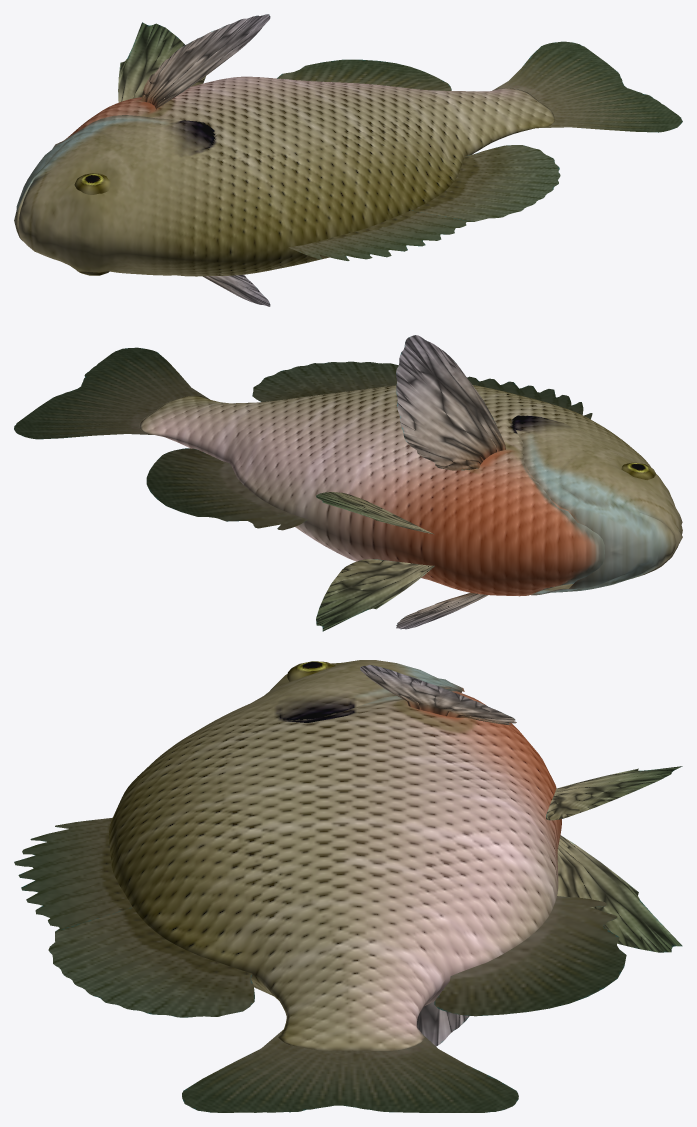
File: fish4.obj
The picture shows the model from 3 angles, top to bottom: view 1: azimuth 30°, elevation 25°; view 2: azimuth 150°, elevation 25°; view 3: azimuth 270°, elevation 25°; orthographic projection. The views are drawn at different scales.
Visible parts, largest first — view 1: object, object9, object3, object5, object2, object8, object7, object4, object11; view 2: object, object5, object9, object8, object6, object3, object7, object2, object4; view 3: object, object9, object3, object8, object2, object6, object5, object7, object4.
Part boxes in pixels (box(x1,y1,x2,y2)): object: box(14, 76, 555, 276); object9: box(494, 41, 682, 132); object3: box(411, 145, 560, 221); object5: box(141, 14, 270, 110); object2: box(288, 210, 471, 260); object8: box(277, 59, 451, 90); object7: box(118, 22, 205, 102); object4: box(203, 274, 270, 306); object11: box(74, 173, 110, 194); object: box(139, 385, 682, 596); object5: box(396, 335, 505, 470); object9: box(14, 347, 209, 439); object8: box(146, 448, 308, 530); object6: box(316, 559, 434, 631); object3: box(252, 361, 398, 401); object7: box(316, 492, 434, 534); object2: box(467, 376, 592, 419); object4: box(396, 592, 488, 629); object: box(109, 660, 561, 1050); object9: box(182, 1030, 518, 1112); object3: box(48, 907, 254, 1017); object8: box(434, 896, 626, 1016); object2: box(14, 817, 132, 931); object6: box(557, 835, 682, 952); object5: box(360, 665, 516, 725); object7: box(546, 766, 682, 820); object4: box(417, 1002, 469, 1046).
Size of the model in its own units: 10 by 4.52 by 6.73.
1 material, 1 textured.
